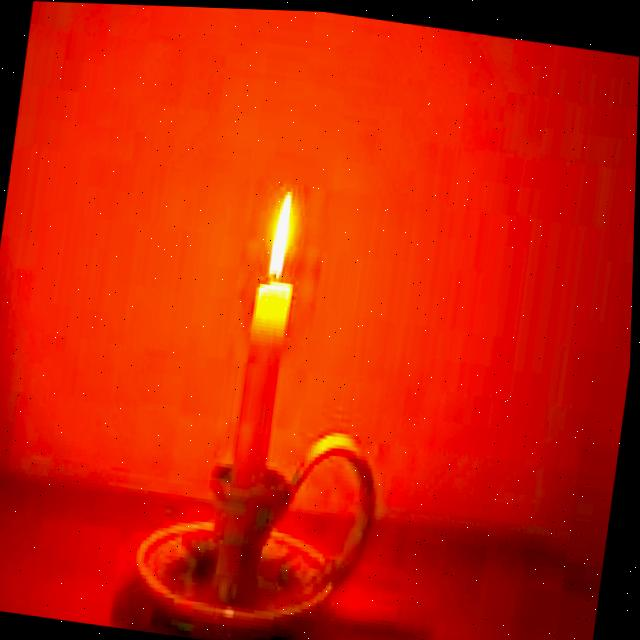Fire: (262, 172, 305, 284)
